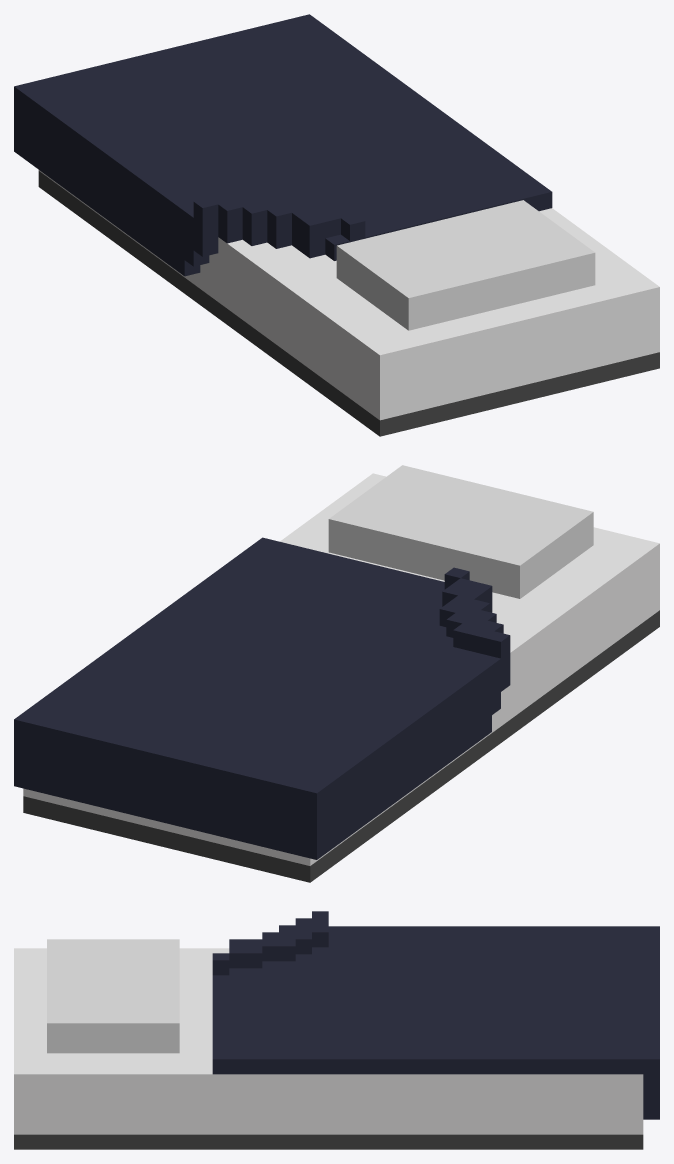
The model's file is BedroomandMainRoom-16.obj.
3 renders of one model, top to bottom at view 1: azimuth 30°, elevation 25°; view 2: azimuth 150°, elevation 25°; view 3: azimuth 270°, elevation 25°, orthographic. The views are drawn at different scales.
Size of the model in its own units: 1.9 by 0.7 by 3.9.
1 material, 1 textured.
